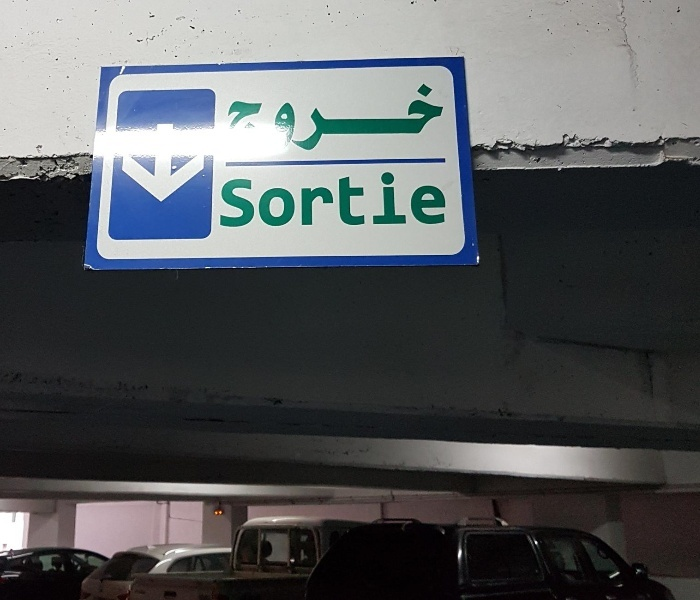text: (225, 80, 240, 154), (241, 80, 256, 154), (257, 80, 272, 154), (273, 80, 288, 154), (289, 80, 304, 154), (305, 80, 320, 154), (321, 80, 336, 154), (337, 80, 352, 154), (353, 80, 368, 154), (369, 80, 384, 154), (385, 80, 400, 154), (401, 80, 416, 154), (417, 80, 432, 154), (225, 170, 240, 232), (241, 170, 256, 232), (257, 170, 272, 232), (273, 170, 288, 232), (289, 170, 304, 232), (305, 170, 320, 232), (321, 170, 336, 232), (337, 170, 352, 232), (353, 170, 368, 232), (369, 170, 384, 232), (385, 170, 400, 232), (401, 170, 416, 232), (417, 170, 432, 232), (433, 170, 448, 232), (433, 80, 445, 154), (219, 170, 224, 232), (220, 80, 224, 154), (449, 170, 450, 232)
